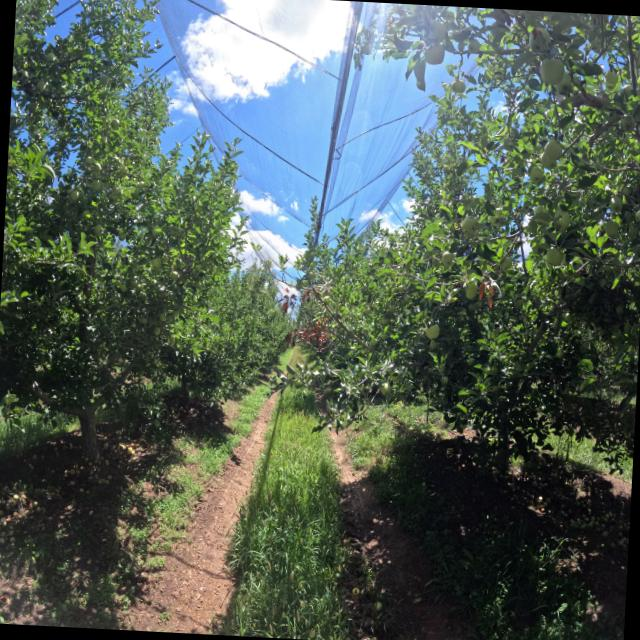-FireBlight-: (282, 310, 336, 351), (478, 273, 496, 309), (279, 286, 298, 313), (302, 289, 312, 302)
